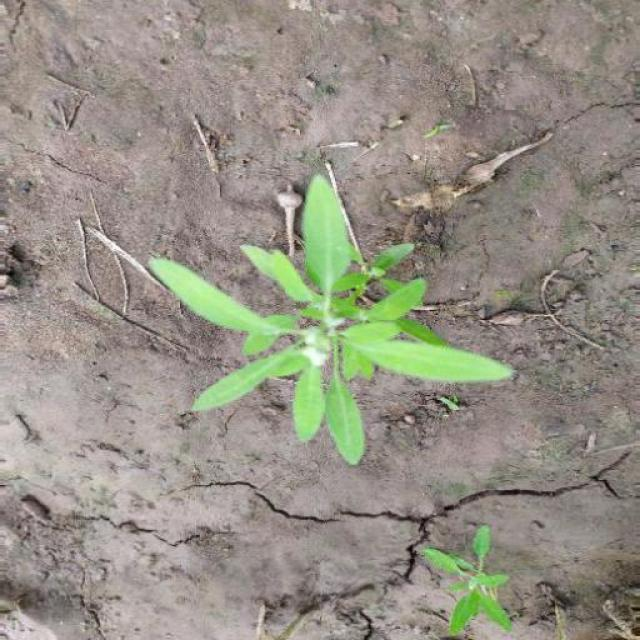weed: (136, 166, 519, 468), (410, 516, 520, 636)
